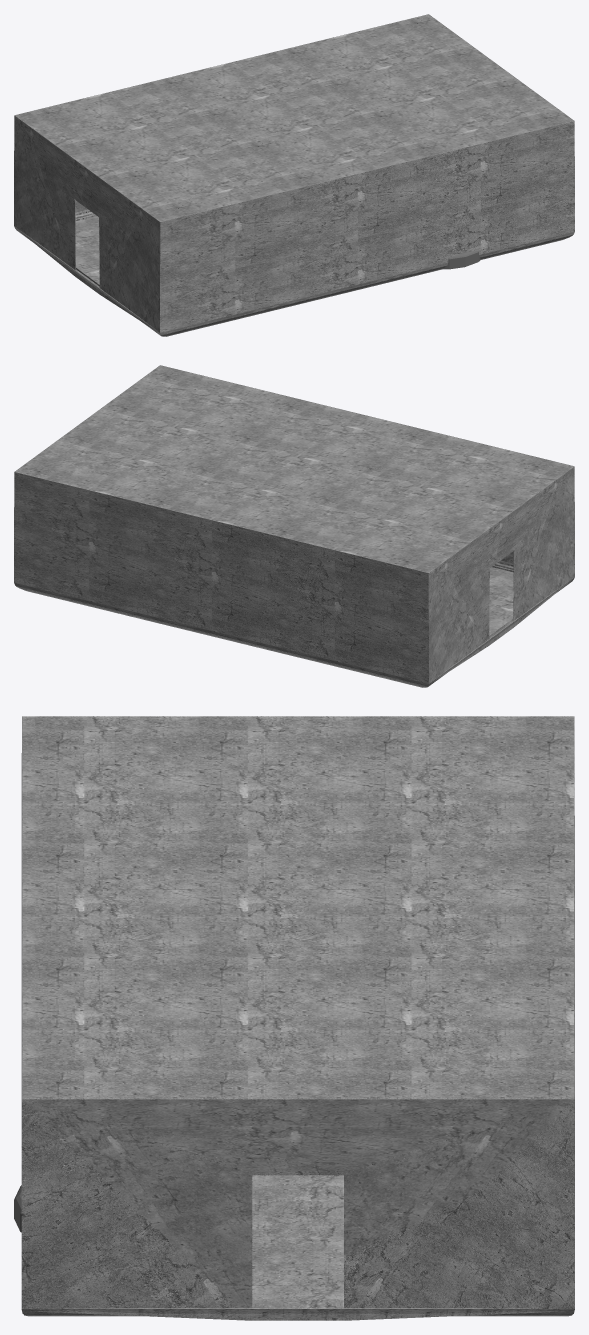
The model's file is final_room.glb.
3 renders of one model, top to bottom at view 1: azimuth 30°, elevation 25°; view 2: azimuth 150°, elevation 25°; view 3: azimuth 270°, elevation 25°, orthographic. The views are drawn at different scales.
Parts seen in each view (by area): view 1: Cube, Cylinder; view 2: Cube; view 3: Cube.
Part boxes in pixels (box(x1,y1,x2,y2)): Cube: box(14, 14, 574, 336); Cylinder: box(442, 251, 481, 269); Cube: box(14, 365, 574, 687); Cube: box(21, 716, 574, 1320).
Size of the model in its own units: 28.94 by 7.94 by 17.88.
Materials: 4 (1 with a texture image).
